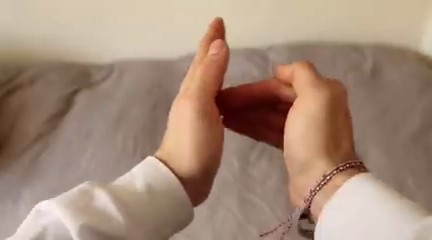Z: (147, 9, 366, 222)
